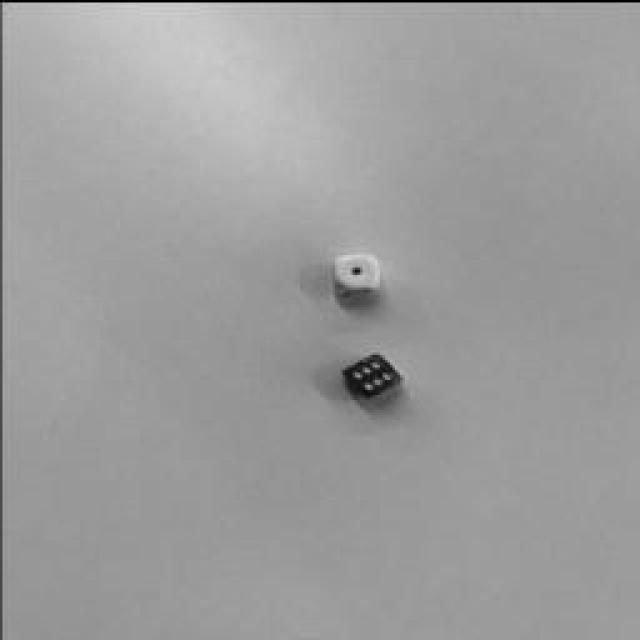dice_1: (332, 254, 378, 286)
dice_6: (342, 353, 396, 395)
